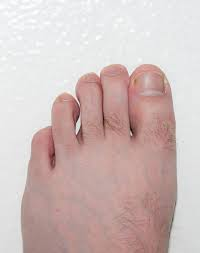feet: (19, 62, 183, 253)
